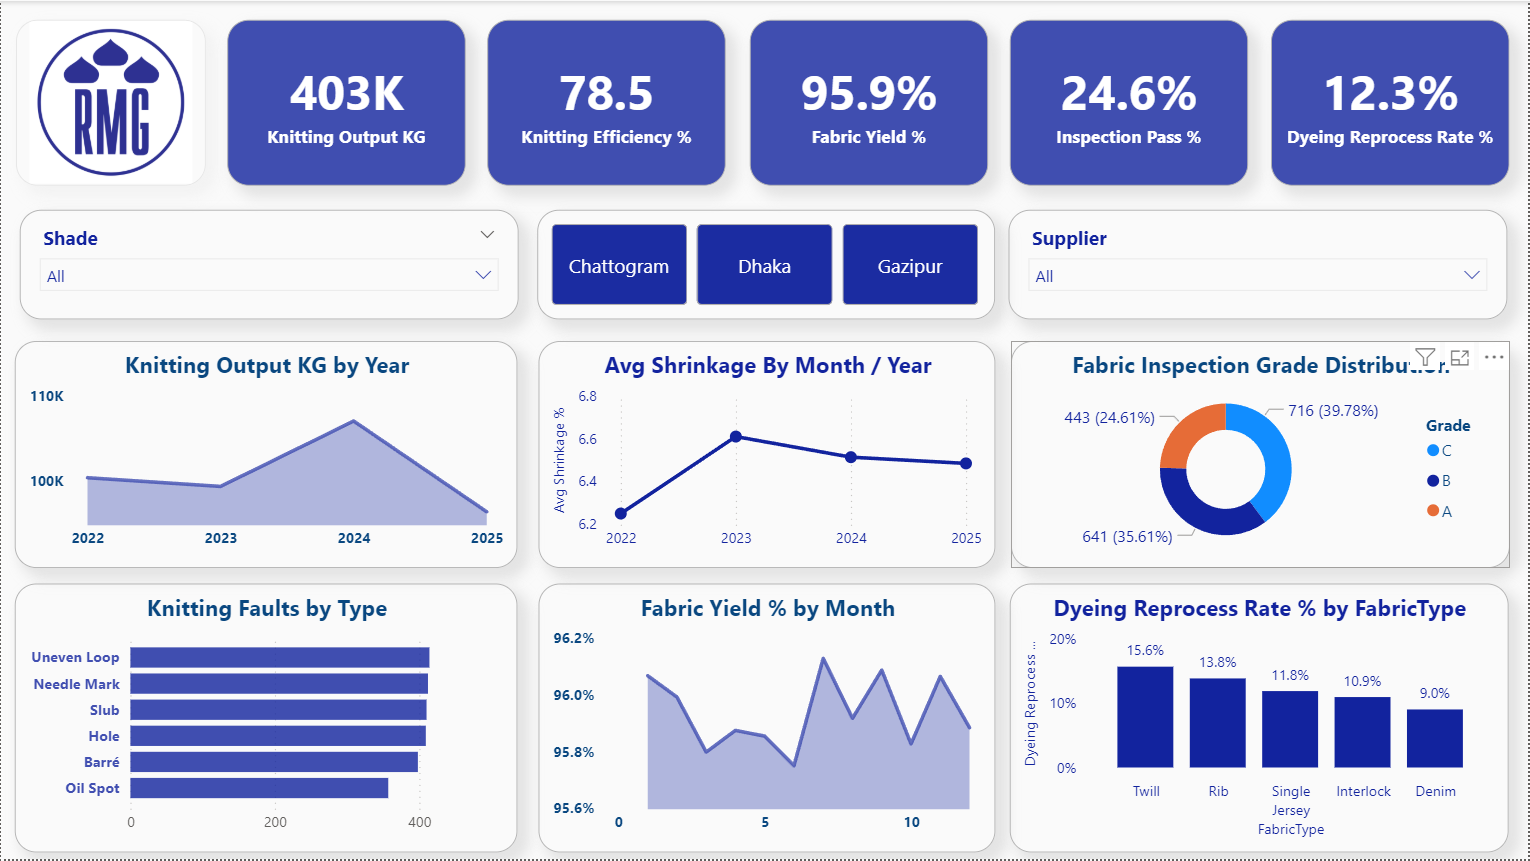

The dashboard page shown, as its layout file describes it:
{"tool":"powerbi","page":{"name":"Textile (TMS) Dashboard","canvas":[1280,720],"ordinal":0},"visuals":[{"type":"image","box":[12.4,15.8,159.4,139.1],"z":0},{"type":"card","fields":{"Values":["All Measures Textile.Knitting Output KG"]},"box":[190,15.8,200.1,139.1],"z":1000},{"type":"card","fields":{"Values":["All Measures Textile.Fabric Inspection Pass Rate %"]},"box":[845.7,15.8,200.1,139.1],"z":2000},{"type":"card","fields":{"Values":["All Measures Textile.Fabric Yield %"]},"box":[627.5,15.8,200.1,139.1],"z":3000},{"type":"card","fields":{"Values":["All Measures Textile.Knitting Efficiency %"]},"box":[408.2,15.8,200.1,139.1],"z":4000},{"type":"card","fields":{"Values":["All Measures Textile.Dyeing Reprocess Rate %"]},"box":[1065.1,15.8,200.1,139.1],"z":5000},{"type":"areaChart","fields":{"Category":["dim_date.Date Hierarchy.Year","dim_date.Date Hierarchy.Month"],"Y":["All Measures Textile.Knitting Output KG"]},"box":[12,285.2,421.9,190.6],"z":6000},{"type":"clusteredBarChart","title":"Knitting Faults by Type","fields":{"Category":["fact_knitting.MajorFault"],"Y":["CountNonNull(fact_knitting.KnittingID)"]},"box":[12,489,421.9,225.3],"z":7000},{"type":"areaChart","fields":{"Category":["dim_date.Date Hierarchy.Year","dim_date.Date Hierarchy.Month"],"Y":["All Measures Textile.Fabric Yield %"]},"box":[450.6,489,383.5,225.3],"z":8000},{"type":"donutChart","title":"Fabric Inspection Grade Distribution","fields":{"Category":["fact_fabric_inspection.Grade"],"Y":["CountNonNull(fact_fabric_inspection.InspectionID)"]},"box":[847.3,285.2,418.3,190.6],"z":9000},{"type":"advancedSlicerVisual","fields":{"Values":["dim_factory.Location"]},"box":[450.1,174.6,383.8,92.3],"z":10000},{"type":"clusteredColumnChart","fields":{"Category":["fact_dyeing.FabricType"],"Y":["All Measures Textile.Dyeing Reprocess Rate %"]},"box":[846.1,489,418,225.3],"z":11000},{"type":"lineChart","title":"Avg Shrinkage By Month / Year","fields":{"Category":["dim_date.Date Hierarchy.Year","dim_date.Date Hierarchy.Month"],"Y":["All Measures Textile.Avg Shrinkage %"]},"box":[450.6,285.2,383.5,190.6],"z":12000},{"type":"slicer","fields":{"Values":["fact_dyeing.Shade"]},"box":[15.9,174.6,418,92.3],"z":13000},{"type":"slicer","fields":{"Values":["fact_yarn_store.Supplier"]},"box":[845.5,174.6,418,92.3],"z":14000}]}

Visuals, with their boxes in screenshot pixels (x1, y1, x2, y2), scaled from the page's 1280x720 canvas onto the 1530x861 screenshot:
image: [15, 19, 205, 185]
card - All Measures Textile.Knitting Output KG: [227, 19, 466, 185]
card - All Measures Textile.Fabric Inspection Pass Rate %: [1011, 19, 1250, 185]
card - All Measures Textile.Fabric Yield %: [750, 19, 989, 185]
card - All Measures Textile.Knitting Efficiency %: [488, 19, 727, 185]
card - All Measures Textile.Dyeing Reprocess Rate %: [1273, 19, 1512, 185]
areaChart - dim_date.Date Hierarchy.Year x dim_date.Date Hierarchy.Month: [14, 341, 519, 569]
"Knitting Faults by Type" clusteredBarChart: [14, 585, 519, 854]
areaChart - dim_date.Date Hierarchy.Year x dim_date.Date Hierarchy.Month: [539, 585, 997, 854]
"Fabric Inspection Grade Distribution" donutChart: [1013, 341, 1513, 569]
advancedSlicerVisual - dim_factory.Location: [538, 209, 997, 319]
clusteredColumnChart - fact_dyeing.FabricType x All Measures Textile.Dyeing Reprocess Rate %: [1011, 585, 1511, 854]
"Avg Shrinkage By Month / Year" lineChart: [539, 341, 997, 569]
slicer - fact_dyeing.Shade: [19, 209, 519, 319]
slicer - fact_yarn_store.Supplier: [1011, 209, 1510, 319]
